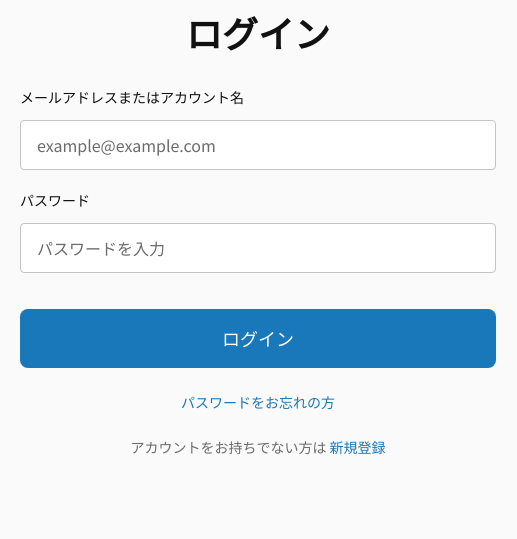
Test: LoginForm › 第2要素（二段階認証） › totp_invalid を受け取るとその内容を表示する
Type "test@example.com" into the field labelled "メールアドレスまたはアカウント名" at (258, 145), box [20, 120, 496, 170]
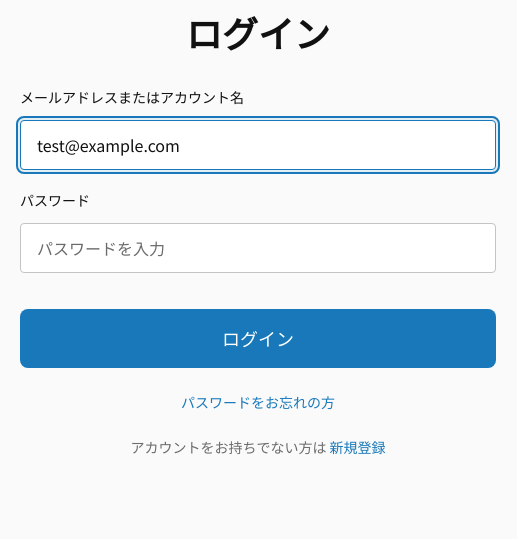
Type "Password1" into the password field labelled "パスワード" at (258, 248), box [20, 223, 496, 273]
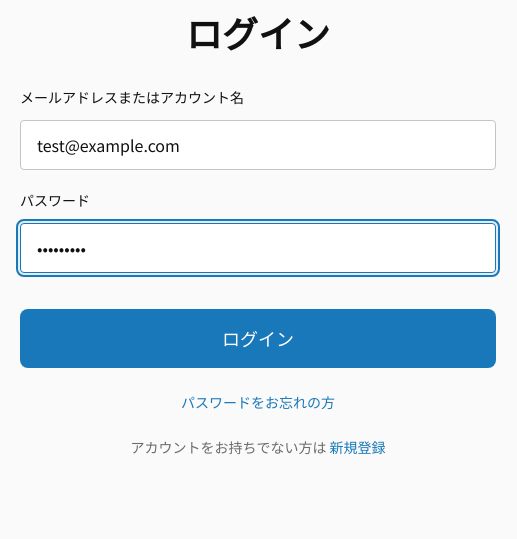
Click the button "ログイン" at (258, 338), box [20, 309, 496, 368]
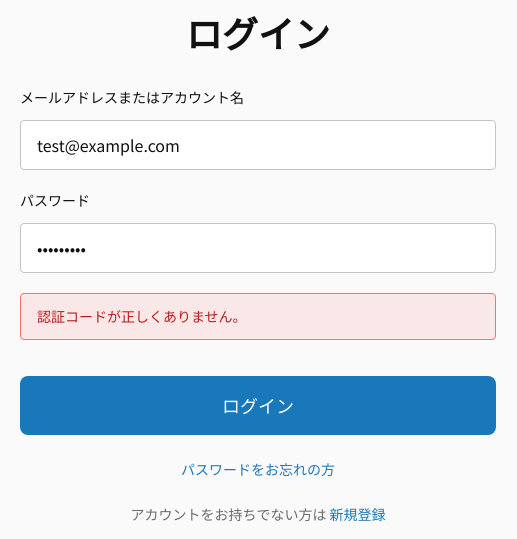
Expected: the message reads "認証コードが正しくありません。", [37, 306, 247, 326]
